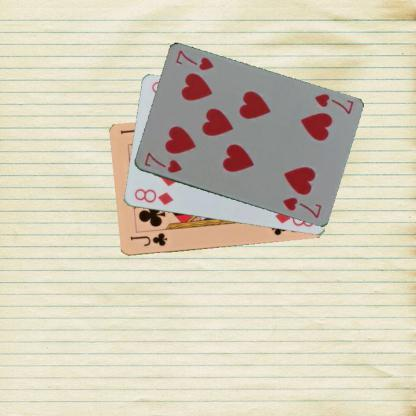7h: (312, 91, 354, 116), (142, 150, 184, 174)
8d: (132, 186, 174, 207)
Jc: (128, 230, 168, 248)
